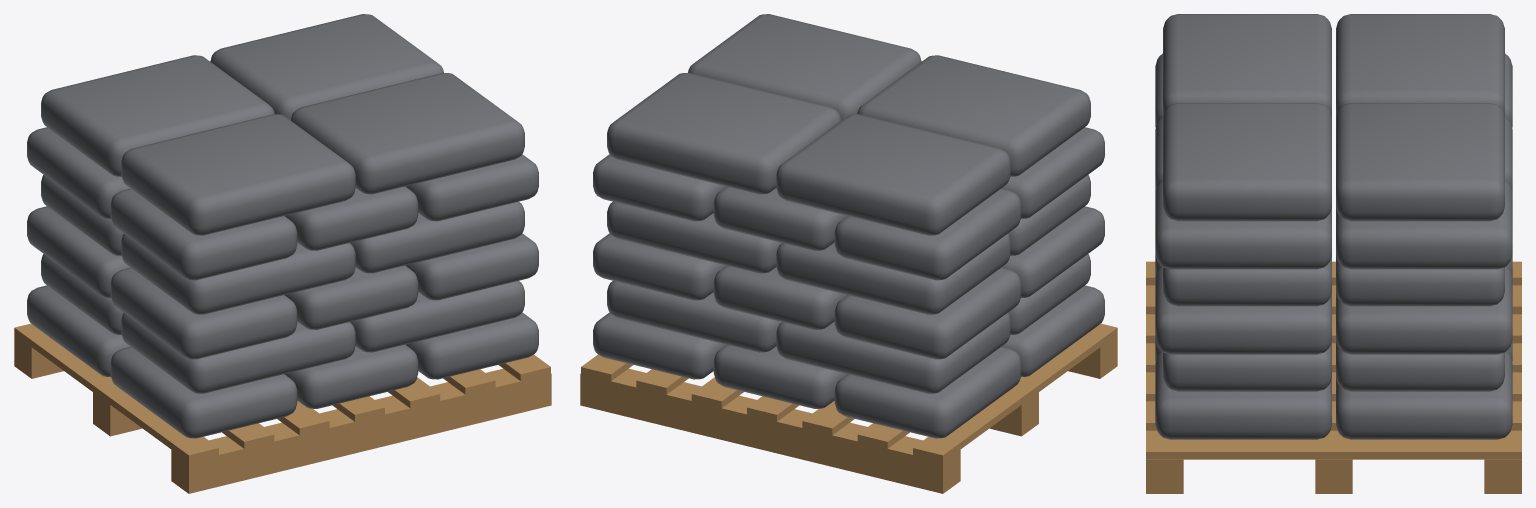
The model's file is plant.store.bags.glb.
3 views of the same model, side by side, from view 1: azimuth 30°, elevation 25°; view 2: azimuth 150°, elevation 25°; view 3: azimuth 270°, elevation 25° (orthographic). The views are drawn at different scales.
Visible parts, largest first — view 1: main__fabric_grey, main__softwood; view 2: main__fabric_grey, main__softwood; view 3: main__fabric_grey, main__softwood.
Boxes of the visible parts, <box> form: main__fabric_grey: <box>27,14,538,438</box>; main__softwood: <box>14,323,551,493</box>; main__fabric_grey: <box>593,14,1104,438</box>; main__softwood: <box>580,323,1117,493</box>; main__fabric_grey: <box>1155,14,1512,439</box>; main__softwood: <box>1146,261,1521,493</box>.
Bounding box in the file's own units: 1.2 × 0.885 × 1.
